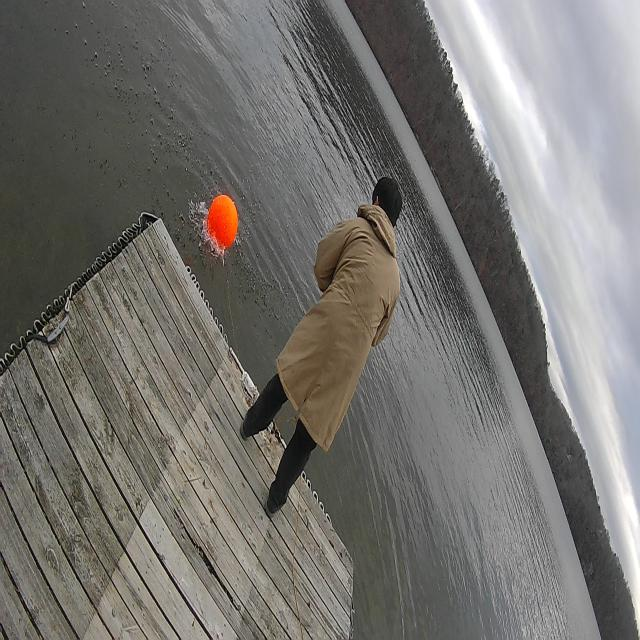Buoy: (204, 190, 240, 262)
